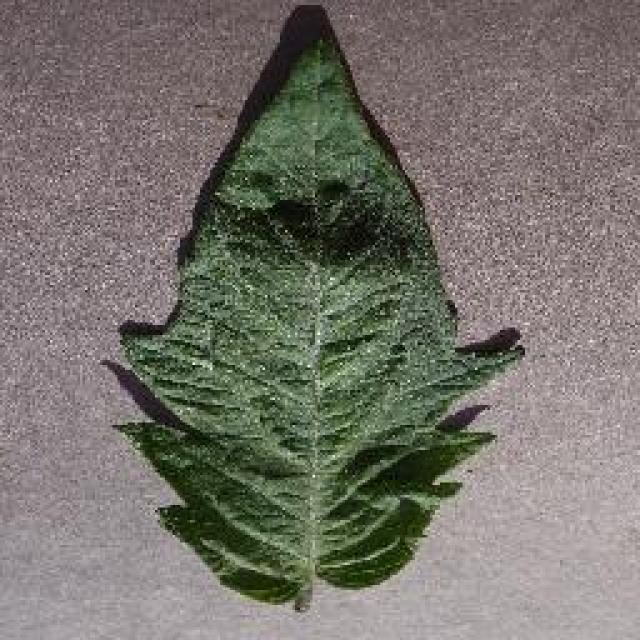Tomato___Spider_mites Two-spotted_spider_mite: (118, 25, 522, 610)
